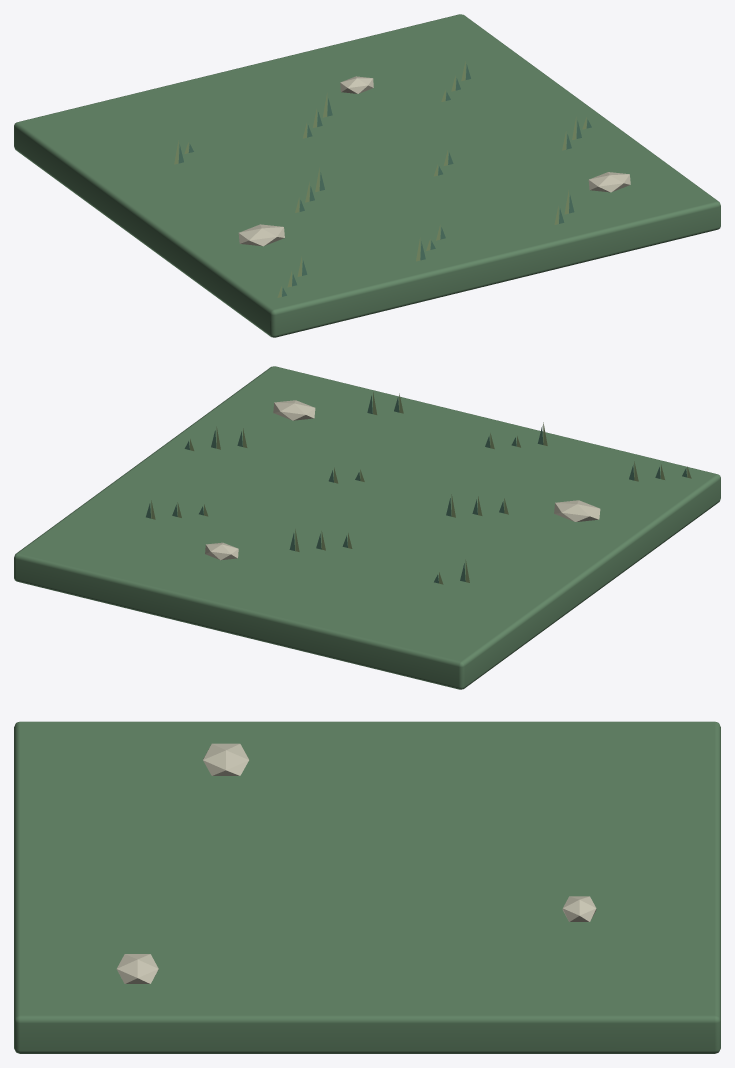
File: SM_Terrain_Grass_4m.fbx
3 renders of one model, top to bottom at view 1: azimuth 30°, elevation 25°; view 2: azimuth 150°, elevation 25°; view 3: azimuth 270°, elevation 25°, orthographic. The views are drawn at different scales.
Parts seen in each view (by area): view 1: SM_Terrain_Grass_4m; view 2: SM_Terrain_Grass_4m; view 3: SM_Terrain_Grass_4m.
Part boxes in pixels (x1,y1,x2,y2): SM_Terrain_Grass_4m: (14, 14, 720, 337); SM_Terrain_Grass_4m: (14, 366, 720, 689); SM_Terrain_Grass_4m: (14, 721, 720, 1053).
Bounding box in the file's own units: 4 × 0.445 × 4.
